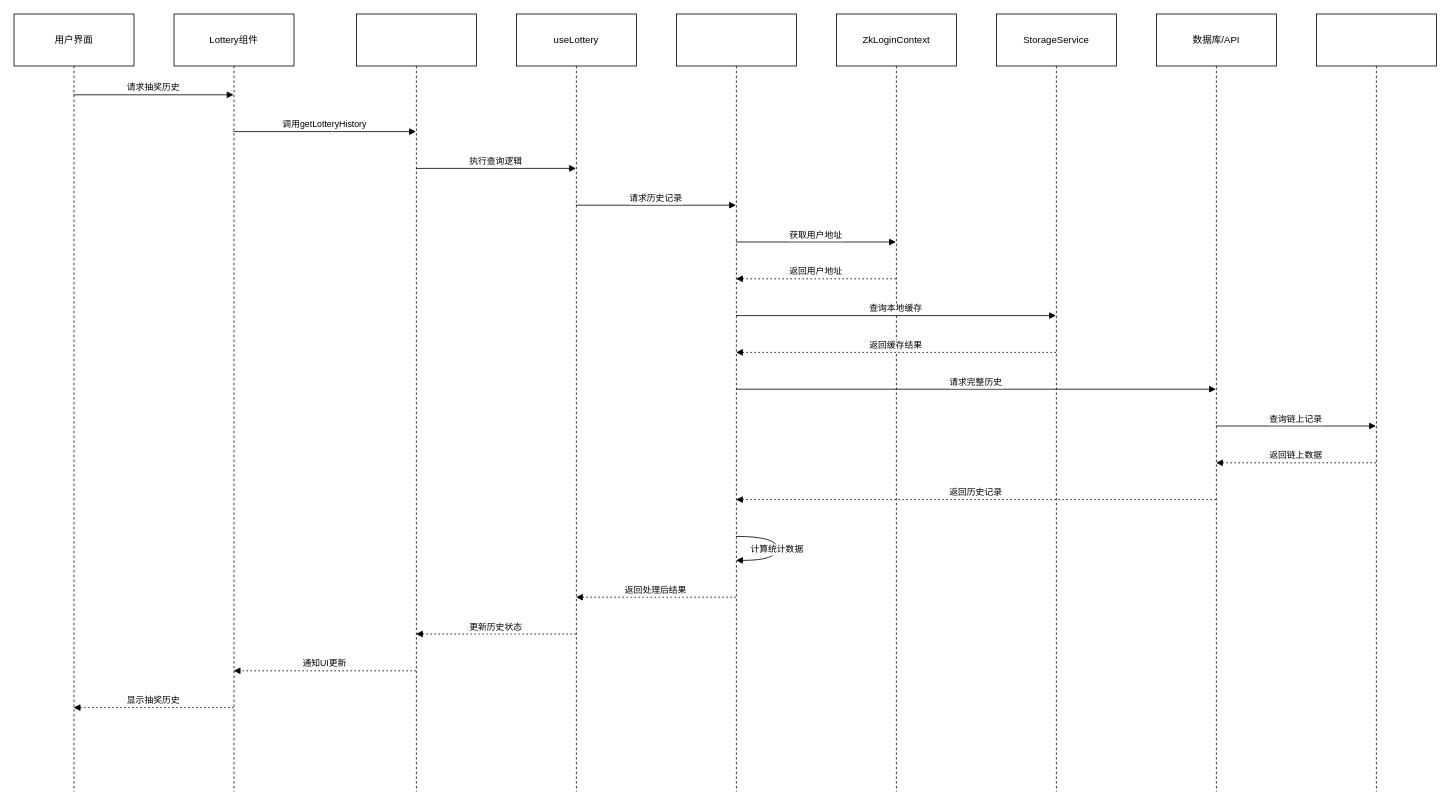
The diagram is 1450 pixels wide and 806 high, and some of its shapes have lost their labels. The shapes that lost their labels are listed below. From the top down, each one's box as (x1, y1, x2, y2) in pixels, then its label:
(356, 13, 476, 792): LotteryContext
(676, 13, 796, 792): LotteryService
(1316, 13, 1436, 792): 区块链
